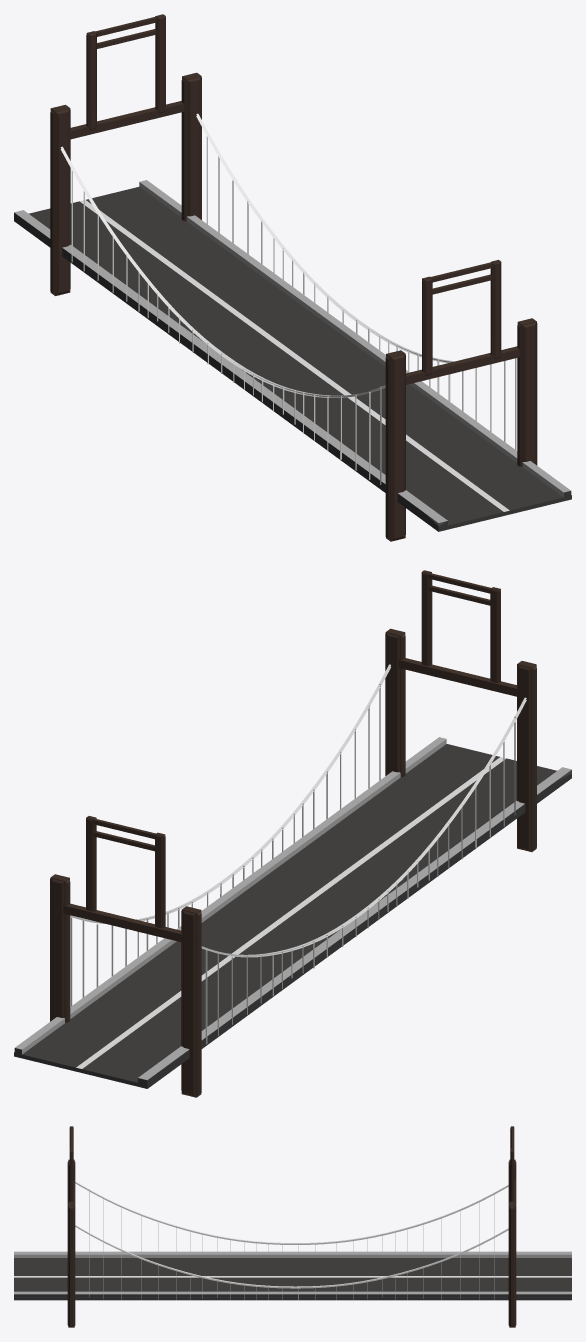
The model's file is bridge_3.fbx.
The picture shows the model from 3 angles, top to bottom: view 1: azimuth 30°, elevation 25°; view 2: azimuth 150°, elevation 25°; view 3: azimuth 270°, elevation 25°; orthographic projection. The views are drawn at different scales.
Parts seen in each view (by area): view 1: polySurface1905, polySurface1896, polySurface1903, polySurface1867, polySurface1879, polySurface1863, polySurface1880, polySurface1871, polySurface1872, polySurface1868, polySurface1899, polySurface1887 (+29 smaller); view 2: polySurface1905, polySurface1895, polySurface1896, polySurface1903, polySurface1904, polySurface1867, polySurface1863, polySurface1880, polySurface1899, polySurface1900, polySurface1887, polySurface1883 (+29 smaller); view 3: polySurface1905, polySurface1896, polySurface1904, polySurface1895, polySurface1903, polySurface1880, polySurface1867, polySurface1871, polySurface1872, polySurface1899, polySurface1879, polySurface1888 (+19 smaller).
Part boxes in pixels (<box>): polySurface1905: <box>397,453,571,531</box>; polySurface1896: <box>287,401,385,446</box>; polySurface1903: <box>421,428,517,473</box>; polySurface1867: <box>151,232,248,275</box>; polySurface1879: <box>241,296,336,339</box>; polySurface1863: <box>119,210,217,253</box>; polySurface1880: <box>173,317,272,360</box>; polySurface1871: <box>184,254,278,296</box>; polySurface1872: <box>115,275,213,317</box>; polySurface1868: <box>85,253,180,295</box>; polySurface1899: <box>406,406,484,448</box>; polySurface1887: <box>301,340,385,381</box>; polySurface1905: <box>387,737,571,815</box>; polySurface1895: <box>288,821,387,867</box>; polySurface1896: <box>353,842,456,888</box>; polySurface1903: <box>353,775,451,820</box>; polySurface1904: <box>418,796,519,840</box>; polySurface1867: <box>86,973,181,1016</box>; polySurface1863: <box>55,996,152,1039</box>; polySurface1880: <box>238,929,338,972</box>; polySurface1899: <box>324,800,417,842</box>; polySurface1900: <box>389,820,486,862</box>; polySurface1887: <box>233,867,325,908</box>; polySurface1883: <box>205,888,297,928</box>; polySurface1905: <box>14,1251,82,1300</box>; polySurface1896: <box>165,1251,211,1276</box>; polySurface1904: <box>82,1251,126,1276</box>; polySurface1895: <box>165,1276,211,1300</box>; polySurface1903: <box>82,1276,126,1300</box>; polySurface1880: <box>321,1251,362,1276</box>; polySurface1867: <box>438,1276,478,1300</box>; polySurface1871: <box>398,1276,438,1300</box>; polySurface1872: <box>398,1251,438,1276</box>; polySurface1899: <box>126,1276,165,1300</box>; polySurface1879: <box>321,1276,362,1300</box>; polySurface1888: <box>247,1251,284,1276</box>.
Bounding box in the file's own units: 140 × 227 × 691.
